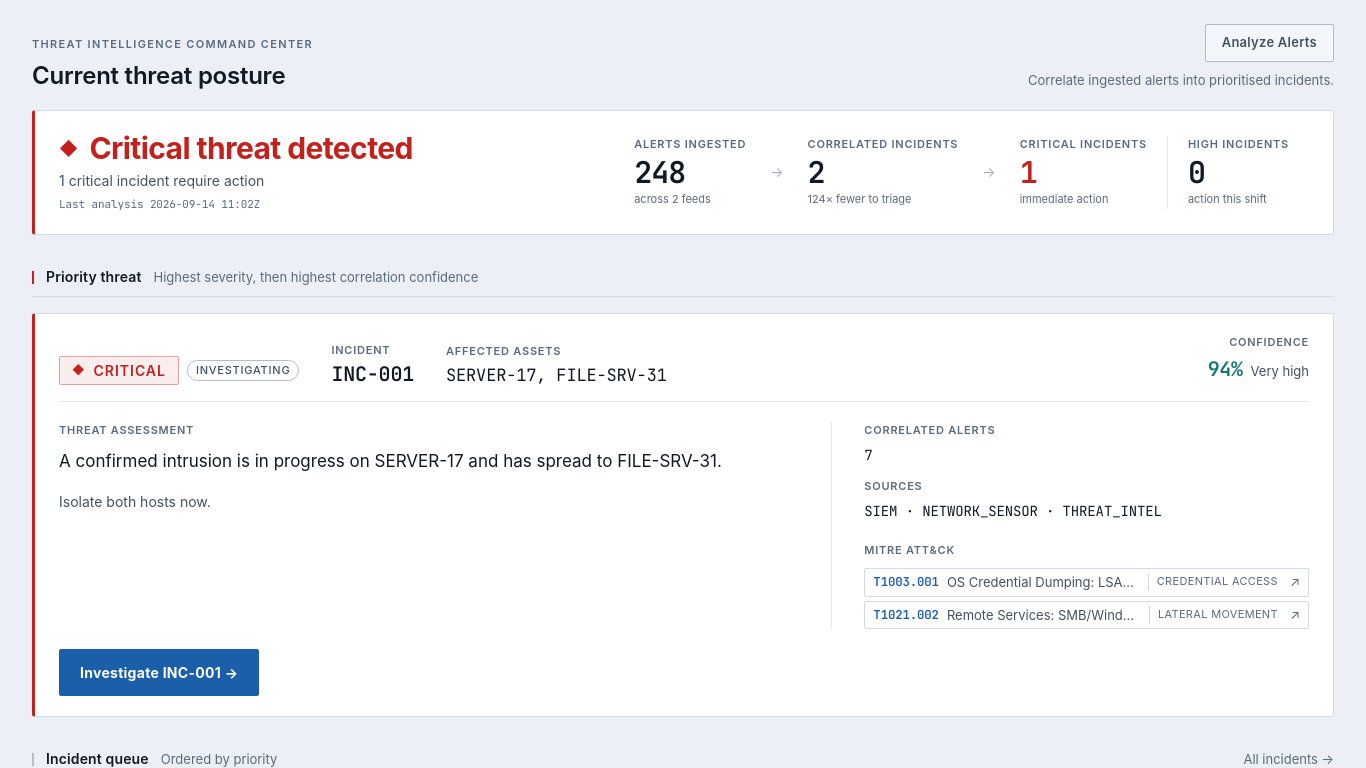
Test: Dashboard — Analyze Alerts lifecycle › labels a demo-mode run as simulated so it cannot pass for a real one
The image size is (1366, 768).
Click the button "Analyze Alerts" at (1269, 43), box x1=1205 y1=24 x2=1334 y2=62
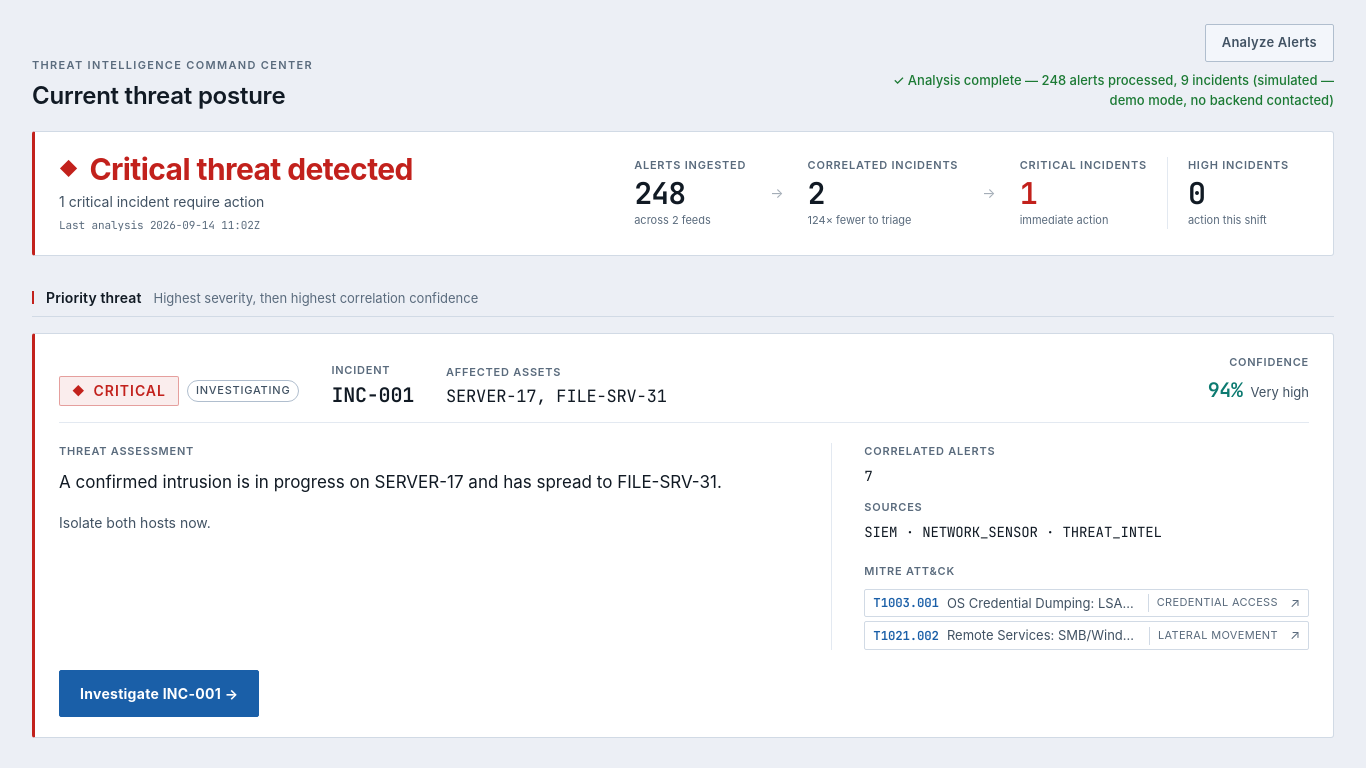
Now the text "simulated — demo mode, no backend contacted" is shown, box x1=1110 y1=72 x2=1334 y2=108
